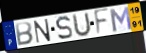B: (15, 21, 35, 47)
F: (93, 7, 110, 38)
M: (108, 5, 134, 33)
N: (33, 19, 52, 45)
S: (55, 15, 74, 41)
U: (72, 11, 92, 39)
